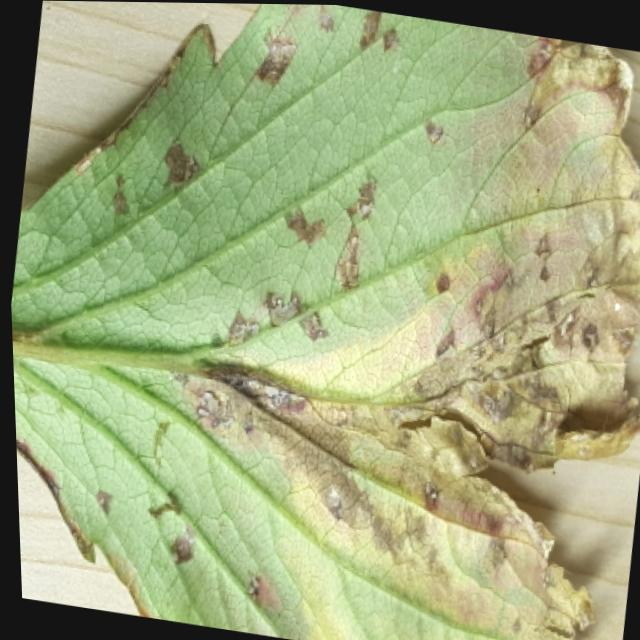Angular Leafspot: (9, 3, 640, 640)
